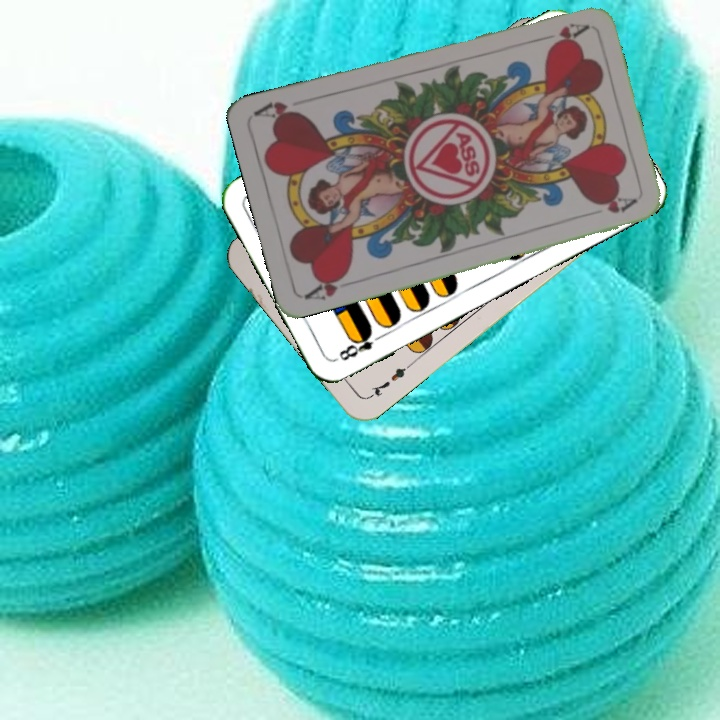E7: (365, 359, 415, 401)
E8: (335, 325, 387, 364)
HA: (300, 268, 352, 303), (532, 19, 590, 50)
